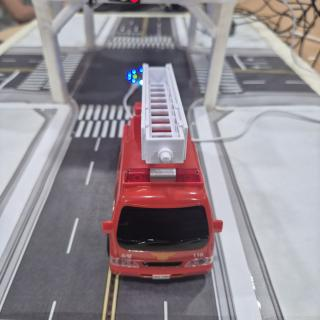Fire_truck: (102, 63, 223, 280)
